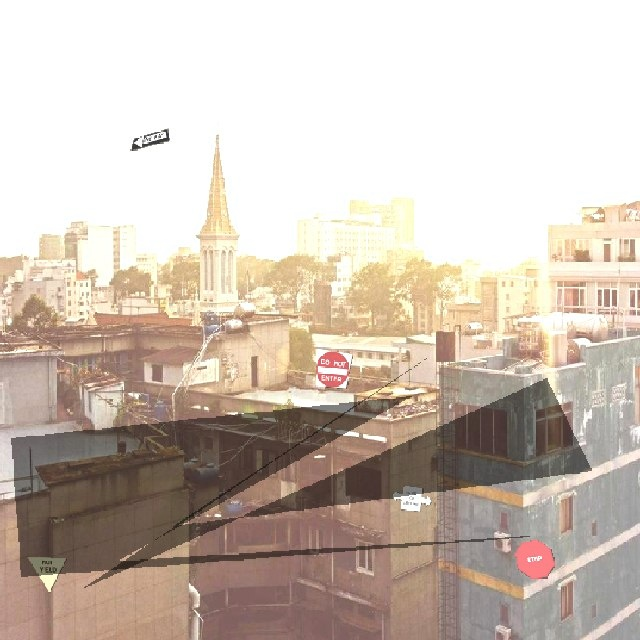DO_NOT_ENTER: (314, 347, 352, 388)
DO_NOT_GO_AROUND: (390, 484, 431, 511)
NOT_YIELD: (25, 555, 66, 592)
ONE_WAY_ left: (128, 127, 169, 150)
STOP: (513, 538, 554, 578)
